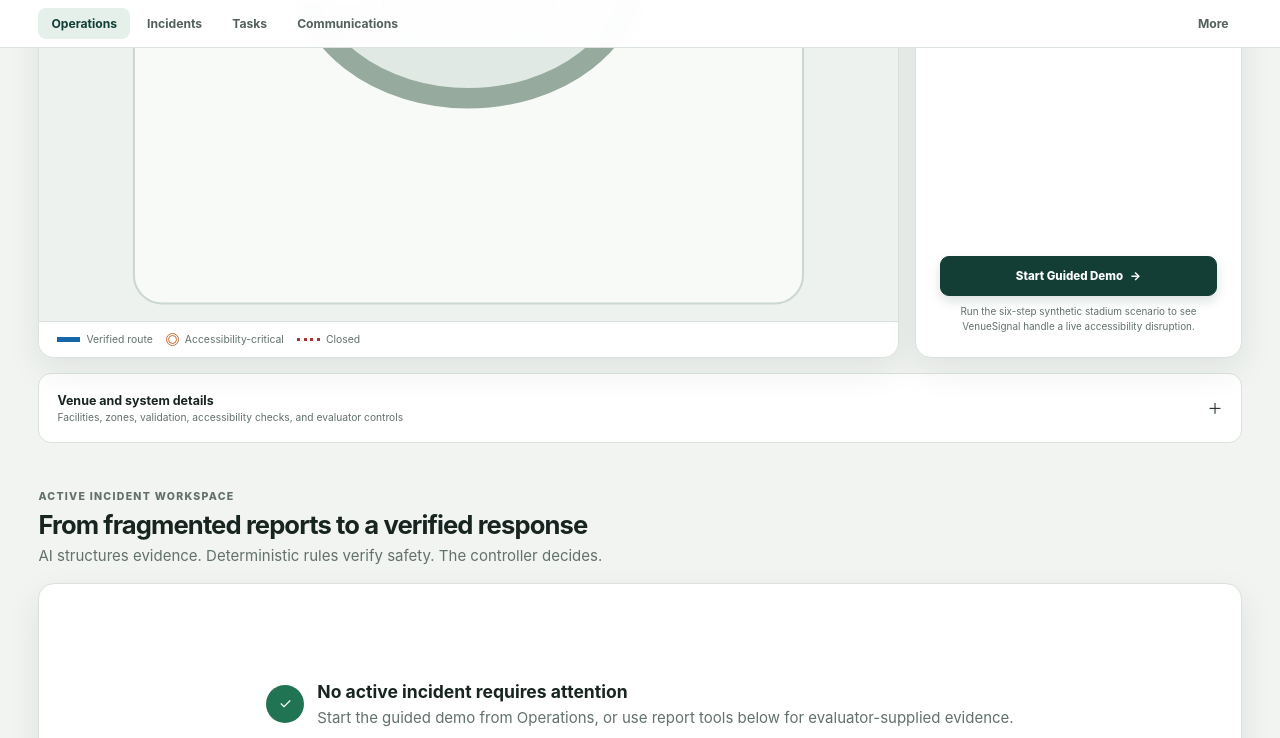
Test: VenueSignal frontend experience › switches levels and selects a zone through mirrored controls
The image size is (1280, 738).
(page scrolled)
Click the text "Venue and system details".
click(136, 400)  # box x1=57 y1=393 x2=214 y2=408
(page scrolled)
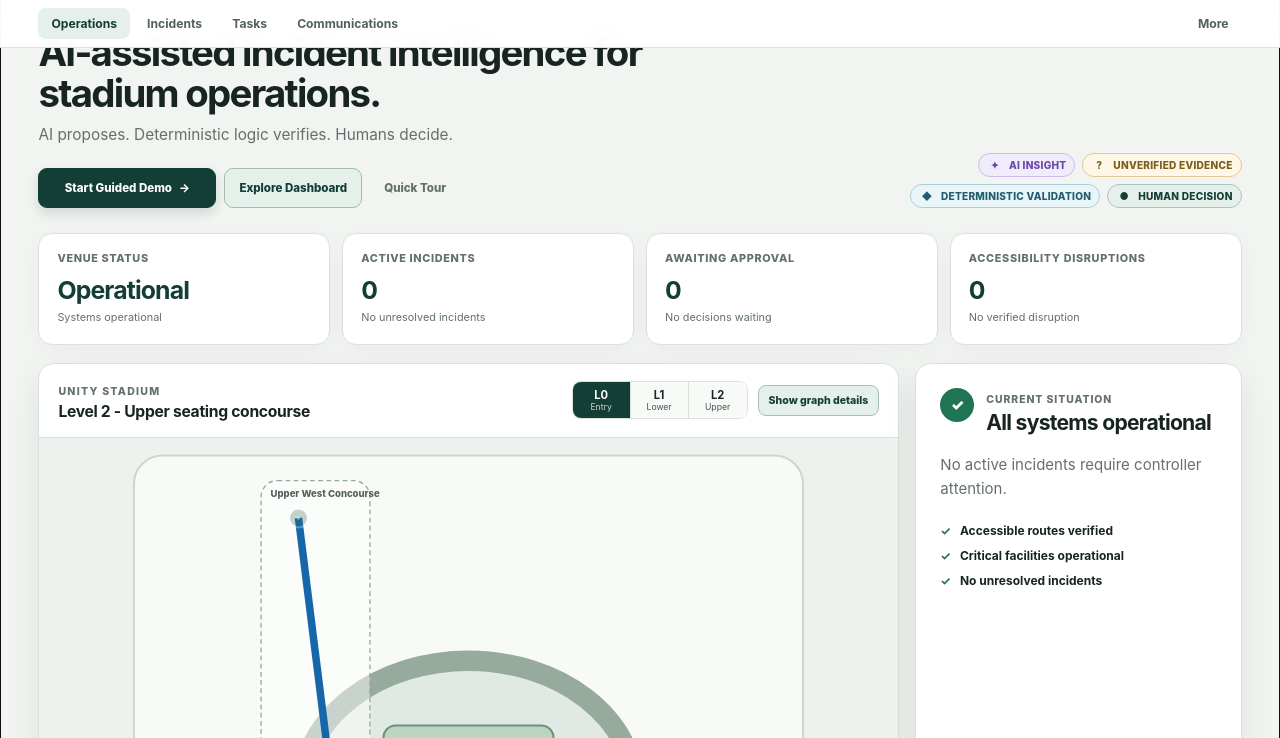
Click the button with aria-label "Level 1, Lower concourse".
click(660, 400)  # box x1=631 y1=382 x2=689 y2=418
(page scrolled)
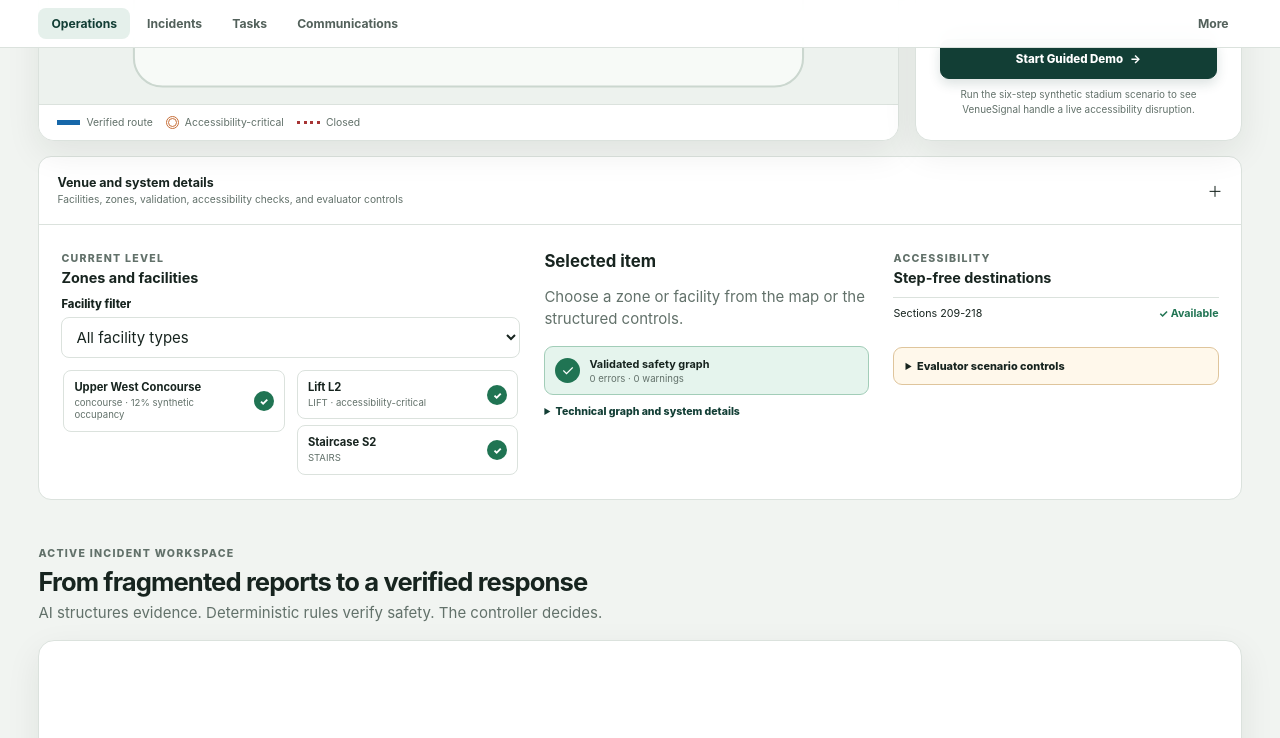
Click the button "Upper West Concourse concourse · 12% synthetic occupancy ✓".
click(174, 401)  # box x1=63 y1=370 x2=285 y2=432
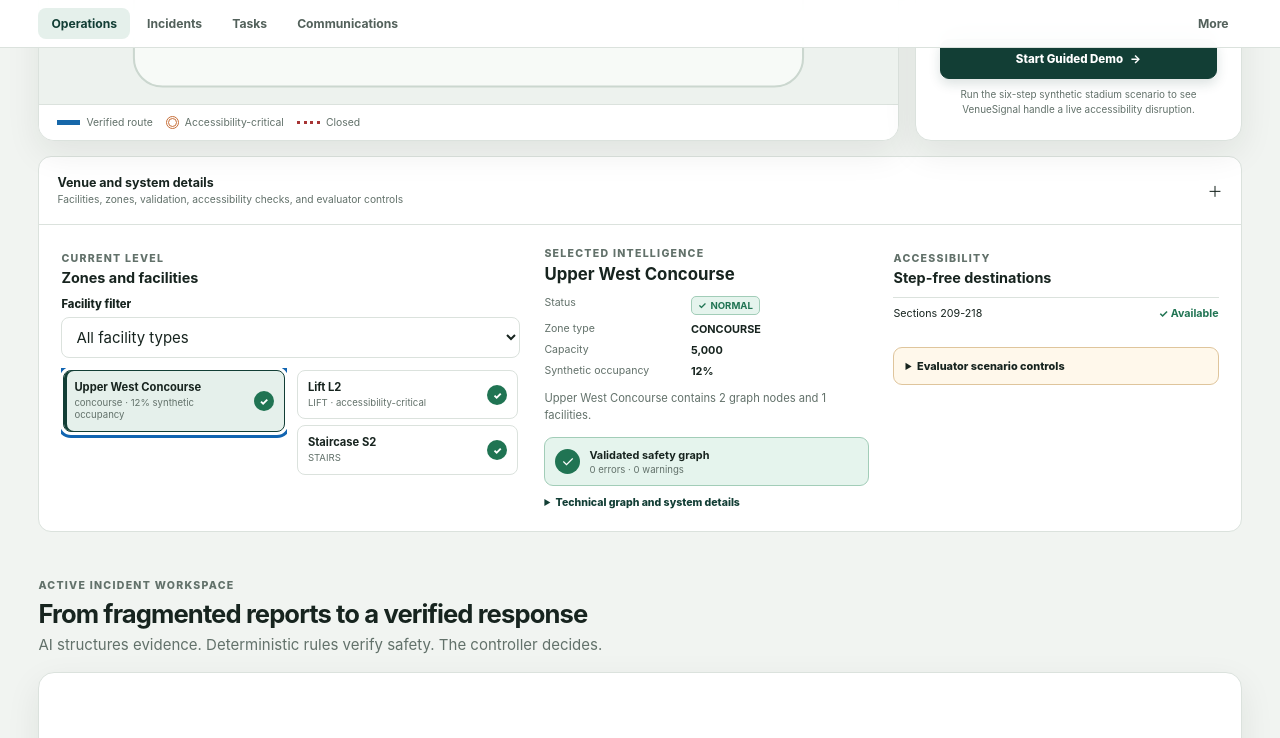
Expected: the heading "Upper West Concourse" is shown, x1=544 y1=264 x2=735 y2=284
